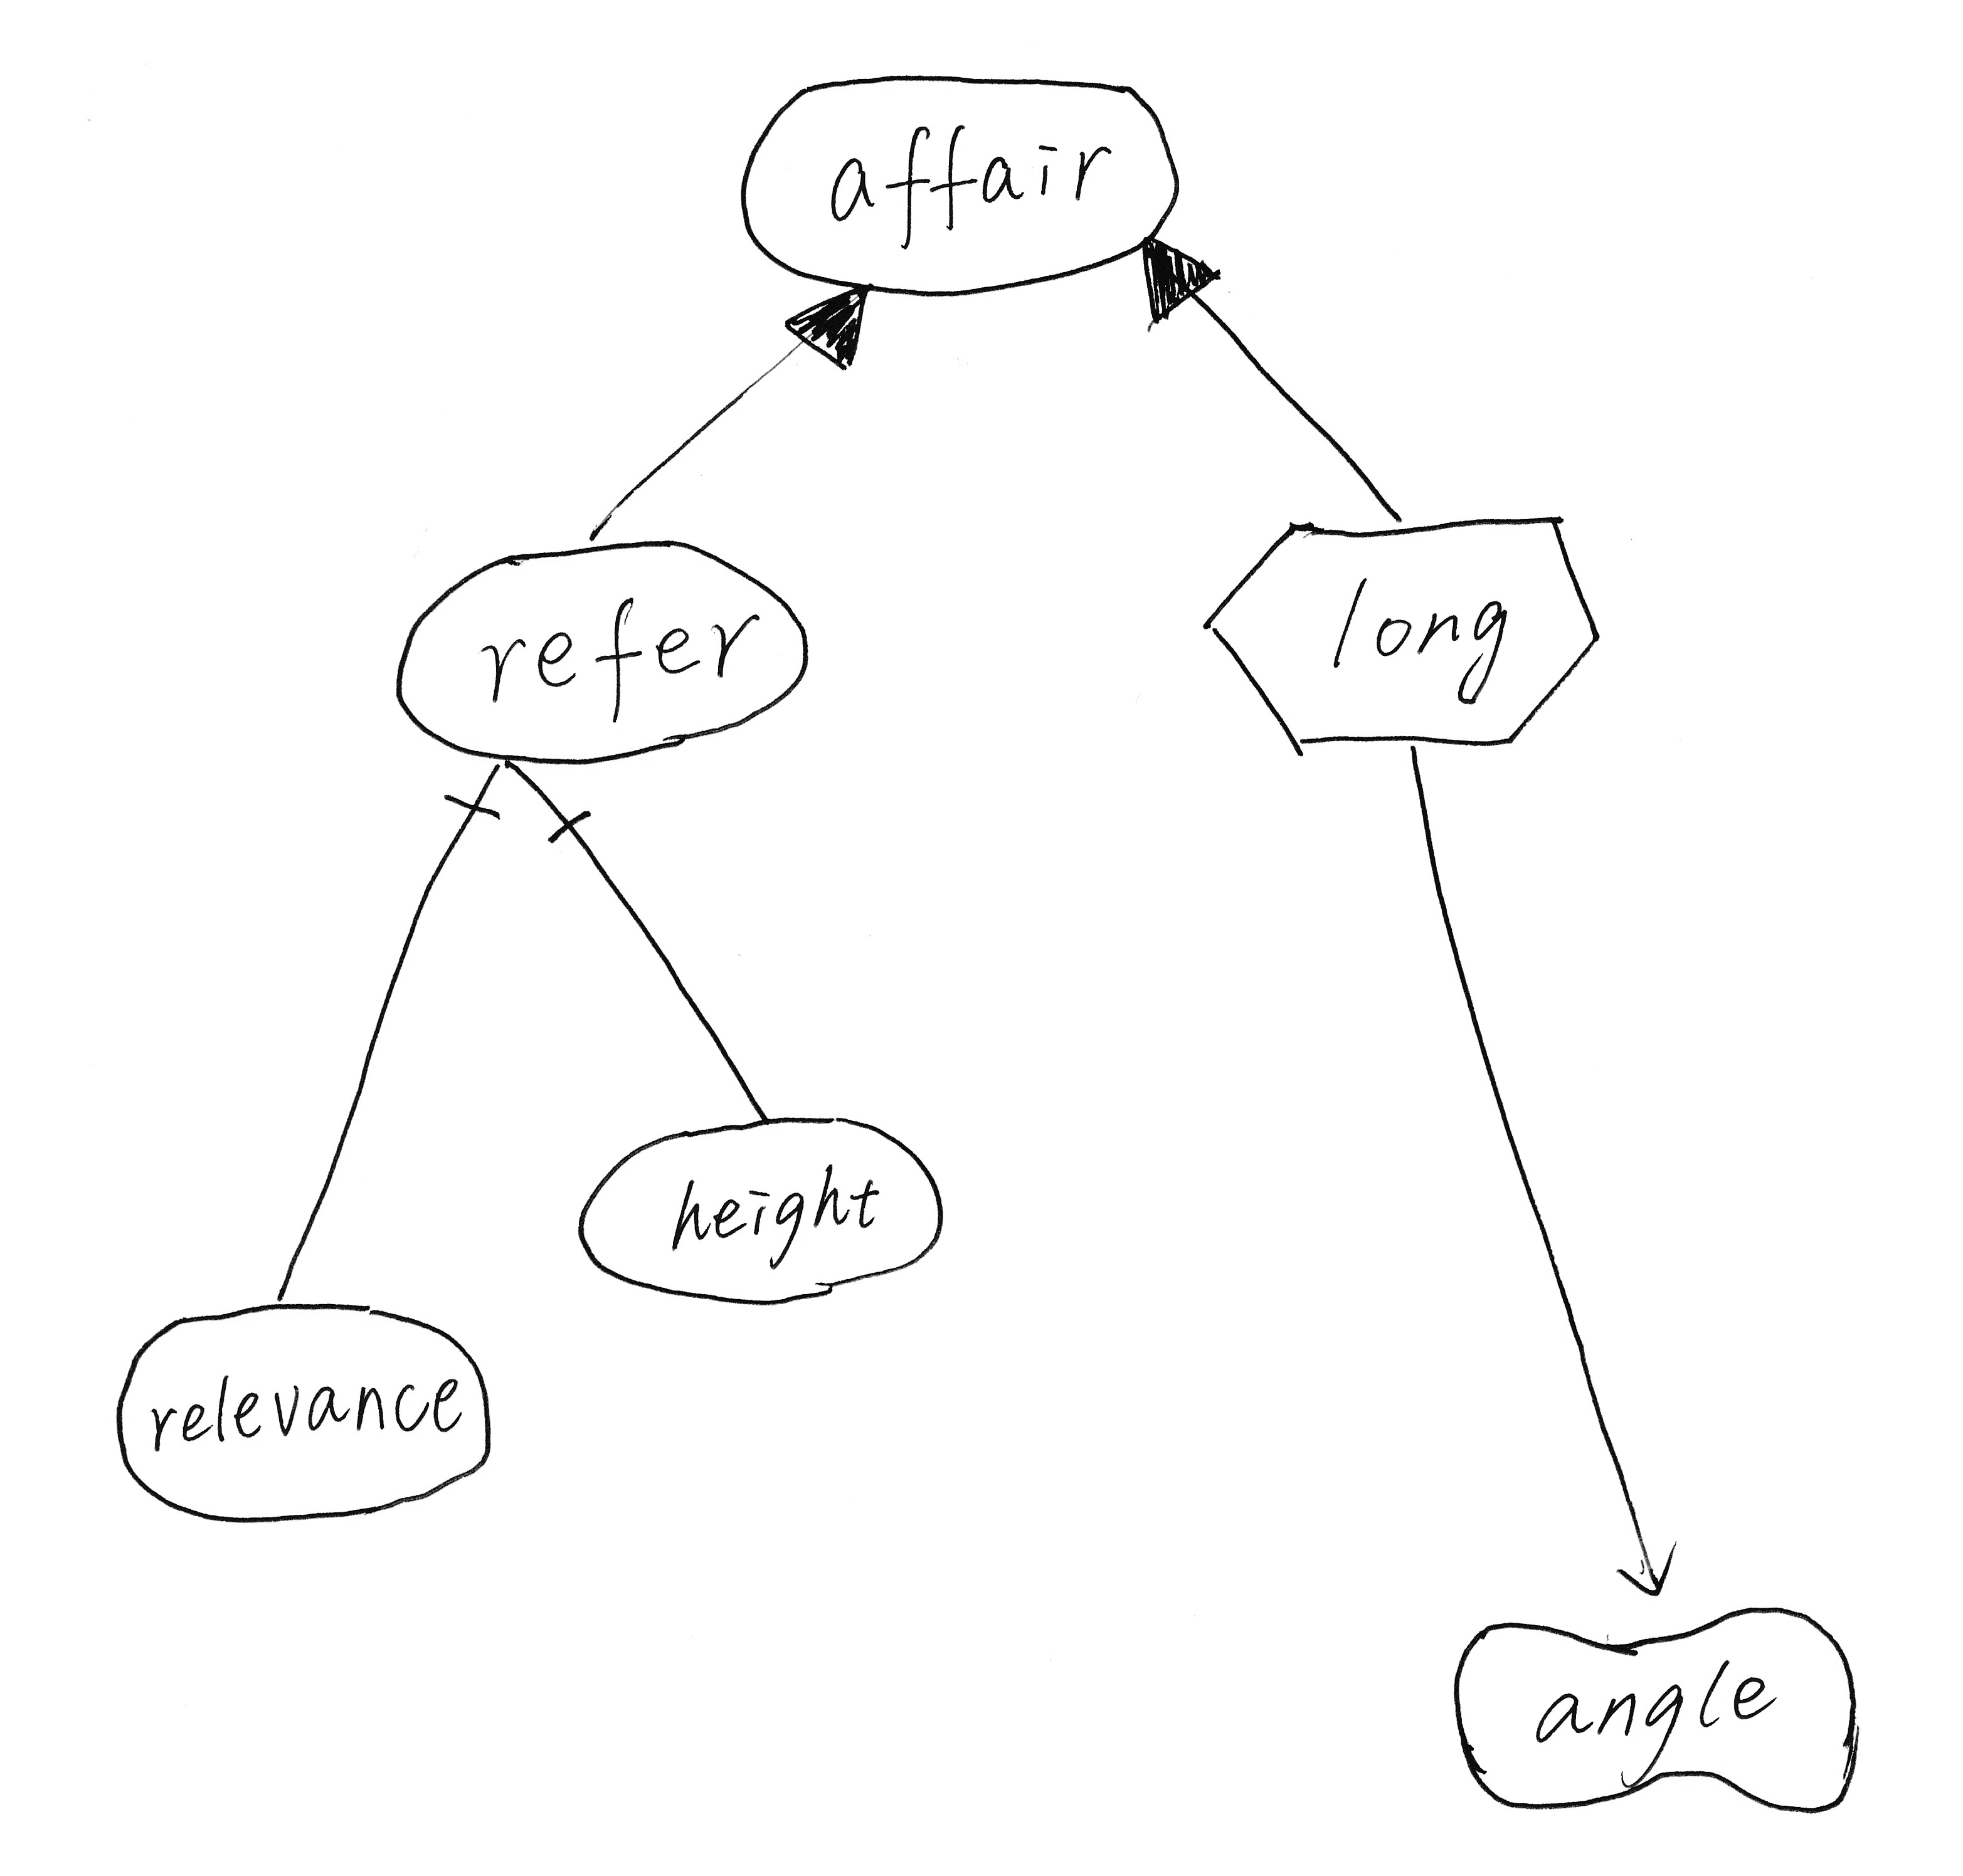and: (489, 744, 617, 850), (424, 748, 519, 858)
arrow: (1598, 1531, 1693, 1615)
goal: (719, 47, 1209, 319), (368, 517, 840, 786), (91, 1286, 528, 1552), (554, 1090, 969, 1324)
or: (1118, 217, 1239, 345), (771, 264, 878, 392)
quality: (1434, 1589, 1886, 1837)
task: (1178, 487, 1632, 781)
